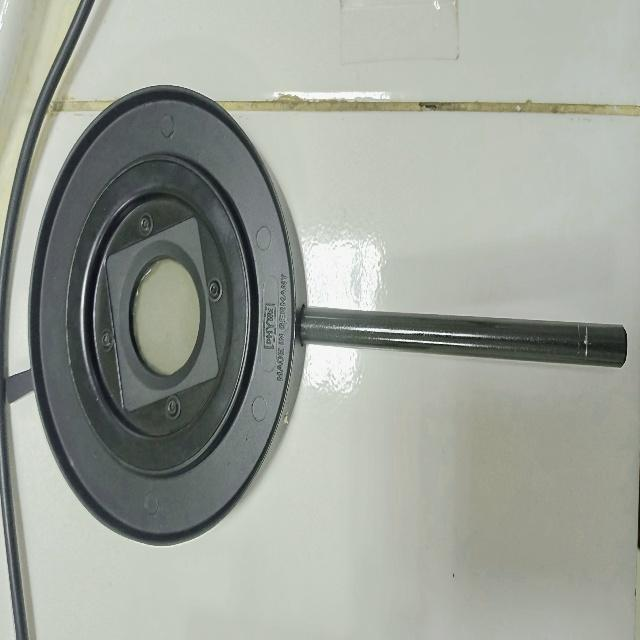Optical Polarizer: (6, 64, 639, 584)
